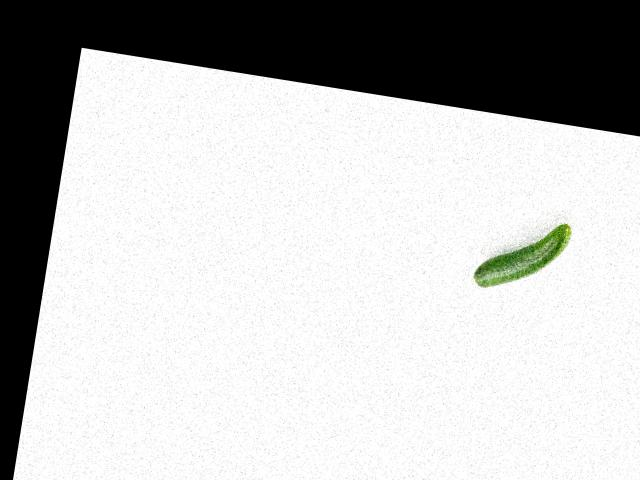cucumber: (472, 210, 572, 299)
